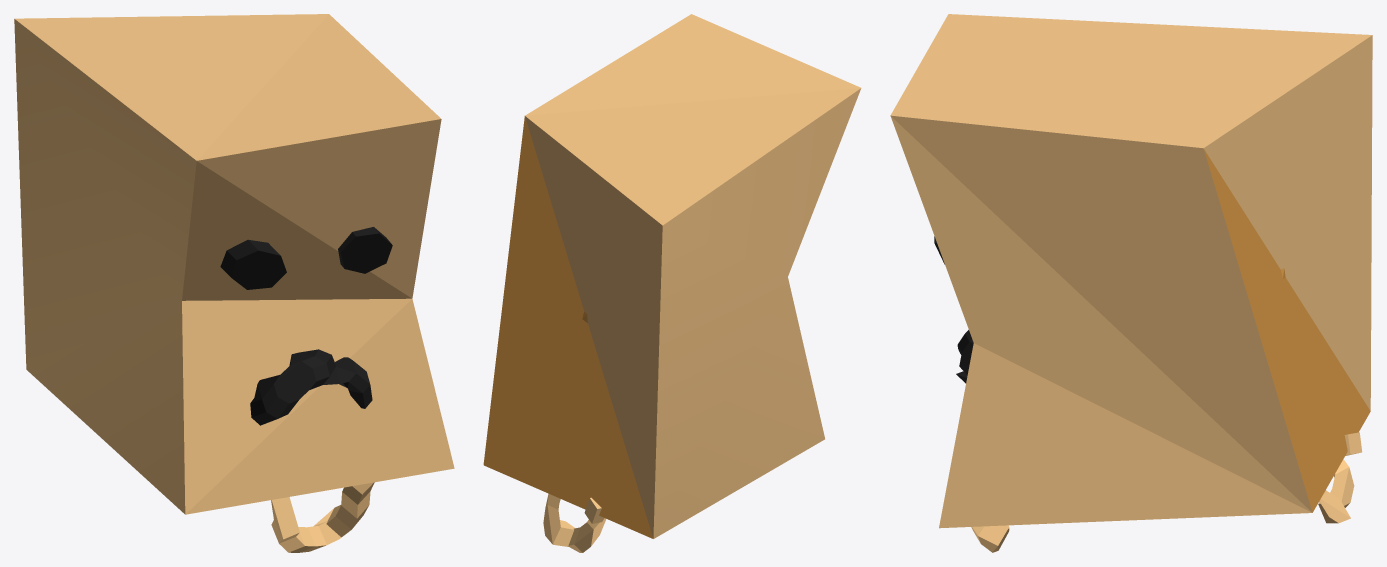
Rendered from paperbag4.fbx.
The picture shows the model from 3 angles, left to right: view 1: azimuth 30°, elevation 25°; view 2: azimuth 150°, elevation 25°; view 3: azimuth 270°, elevation 25°; orthographic projection. The views are drawn at different scales.
Visible parts, largest first — view 1: group1826500939; view 2: group1826500939; view 3: group1826500939.
Boxes of the visible parts, x1,y1,x2,y2 form: group1826500939: [14, 14, 454, 552]; group1826500939: [483, 14, 861, 552]; group1826500939: [890, 14, 1372, 552].
Size of the model in its own units: 0.9837 by 1.54 by 1.67.
